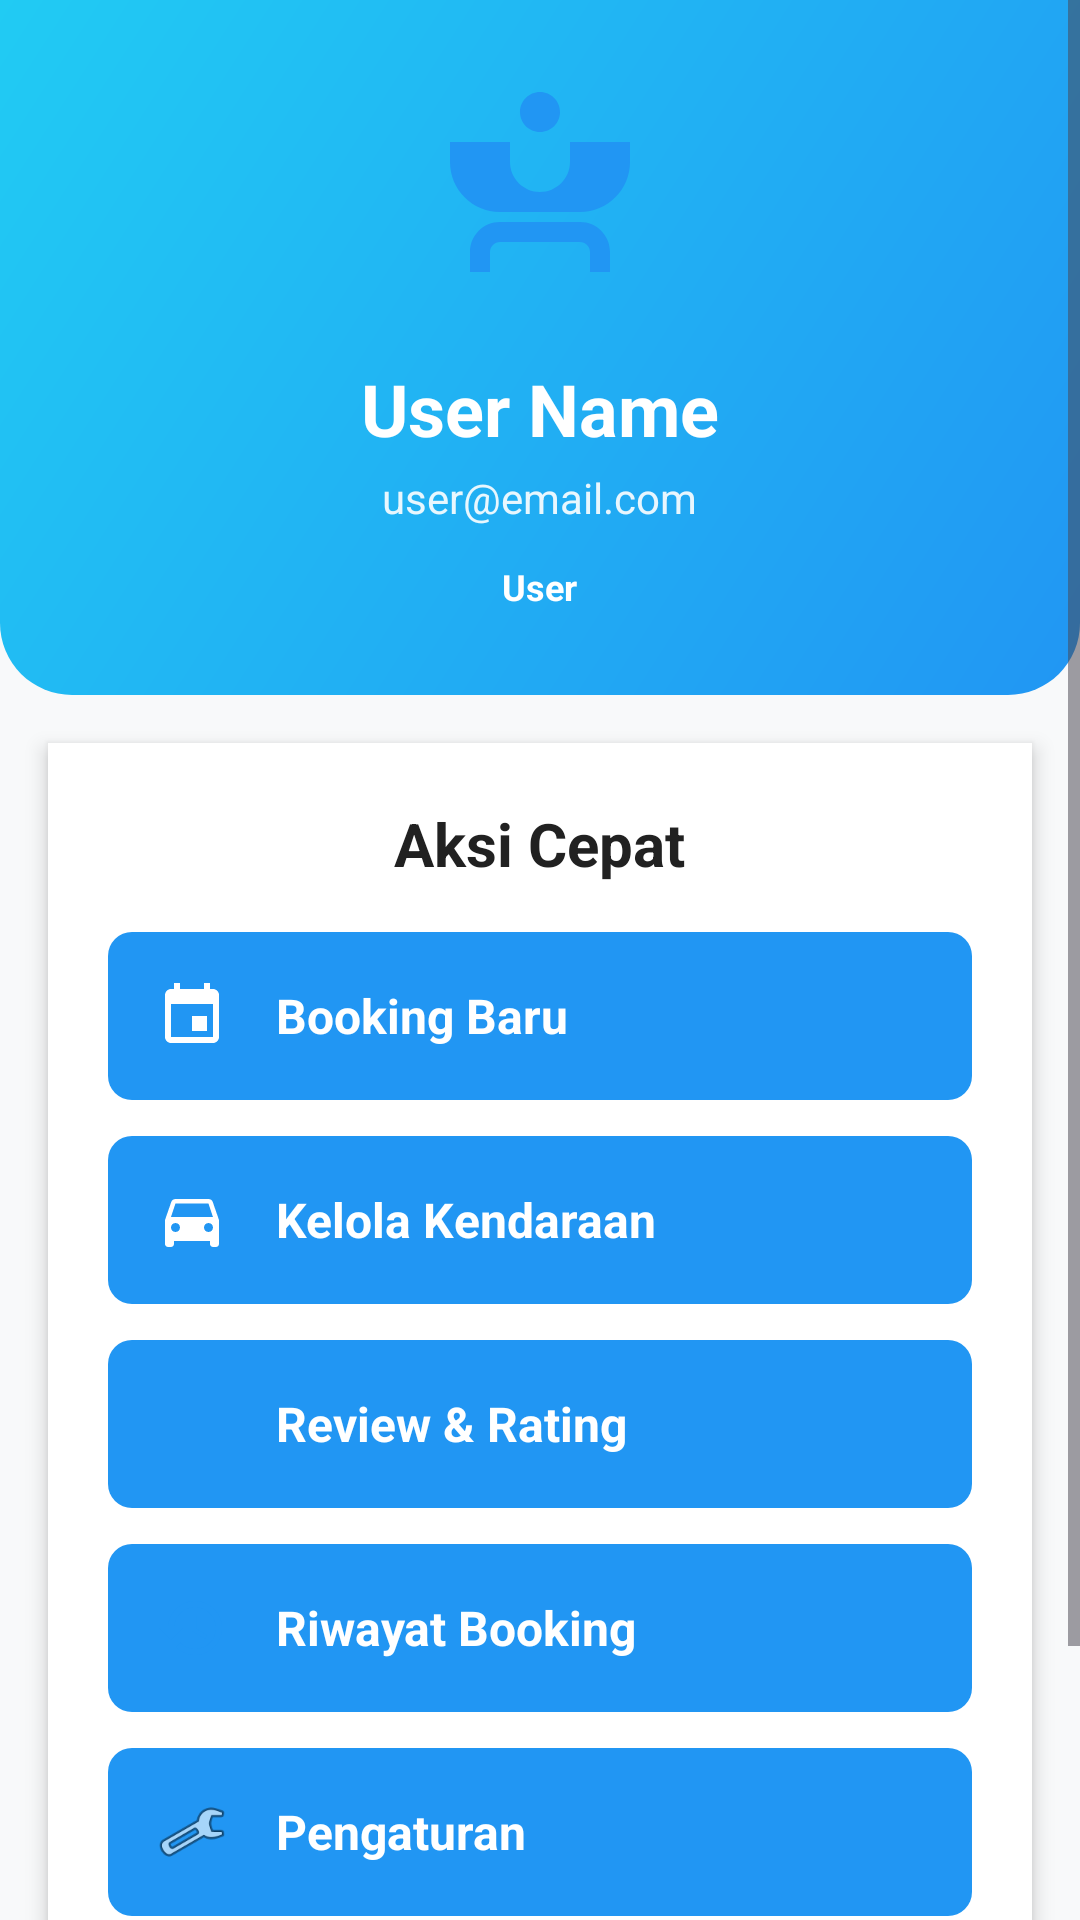

Where icons sit on this 1080 x 1920 app screen, as [x1, y1, x2, y2]:
admin: [450, 92, 630, 272]
car: [165, 1199, 219, 1247]
preferences: [159, 1807, 224, 1857]
